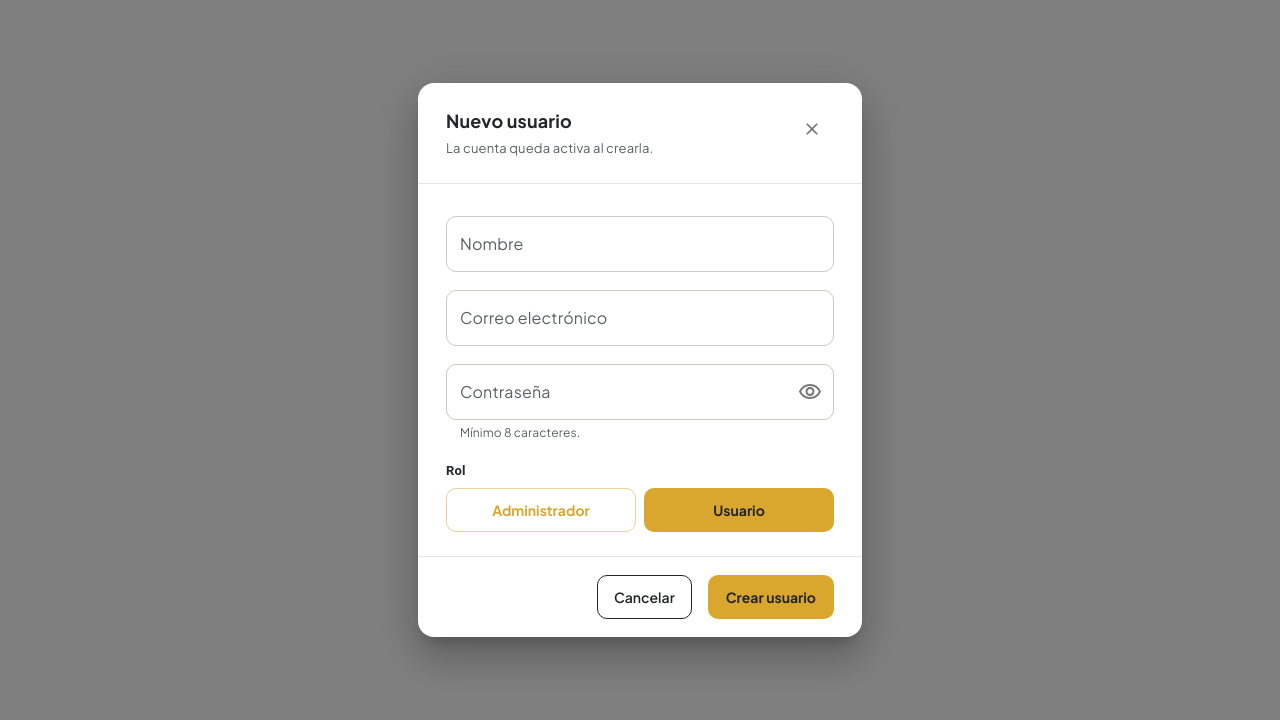
it: UserFormDialog › requires every field and sends nothing
This screenshot has width=1280, height=720.
Click the button "Crear usuario" at point(771, 597), box [708, 575, 834, 619]
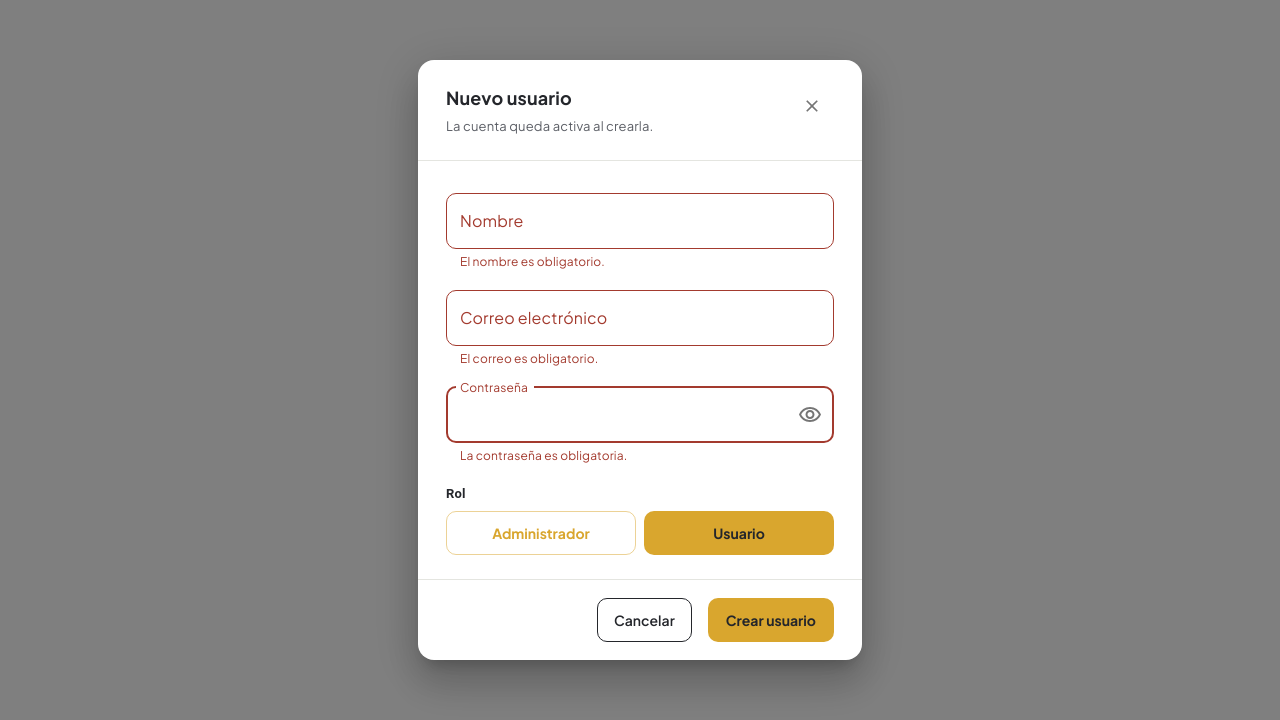
expect the text "El nombre es obligatorio." is shown: met, box [460, 254, 605, 269]
expect the text "El correo es obligatorio." is shown: met, box [460, 351, 598, 366]
expect the text "La contraseña es obligatoria." is shown: met, box [460, 448, 627, 463]
